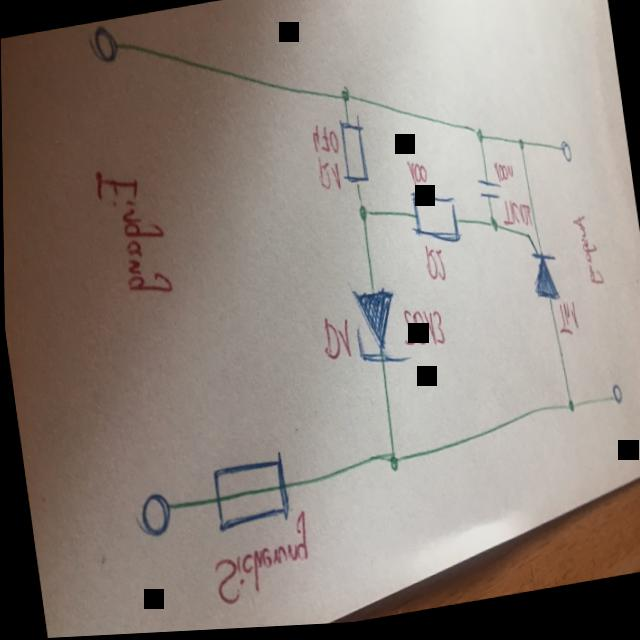capacitor: (474, 179, 501, 210)
diode: (344, 278, 410, 375)
junction: (382, 452, 400, 479), (354, 202, 368, 227), (337, 87, 351, 109), (470, 130, 484, 149), (486, 220, 498, 239), (562, 403, 573, 420), (515, 142, 524, 158)
resistor: (403, 188, 461, 256), (332, 115, 371, 195)
terminal: (127, 489, 177, 546), (82, 21, 123, 70), (605, 387, 622, 413), (557, 144, 572, 171)
text: (87, 160, 173, 308), (202, 509, 314, 612), (567, 217, 603, 296), (396, 306, 444, 357), (316, 315, 352, 367), (312, 156, 341, 198), (308, 123, 338, 161), (420, 246, 445, 290), (498, 202, 530, 236), (552, 305, 578, 343), (403, 160, 427, 194), (490, 164, 513, 189)
thyristor: (522, 233, 560, 311)
